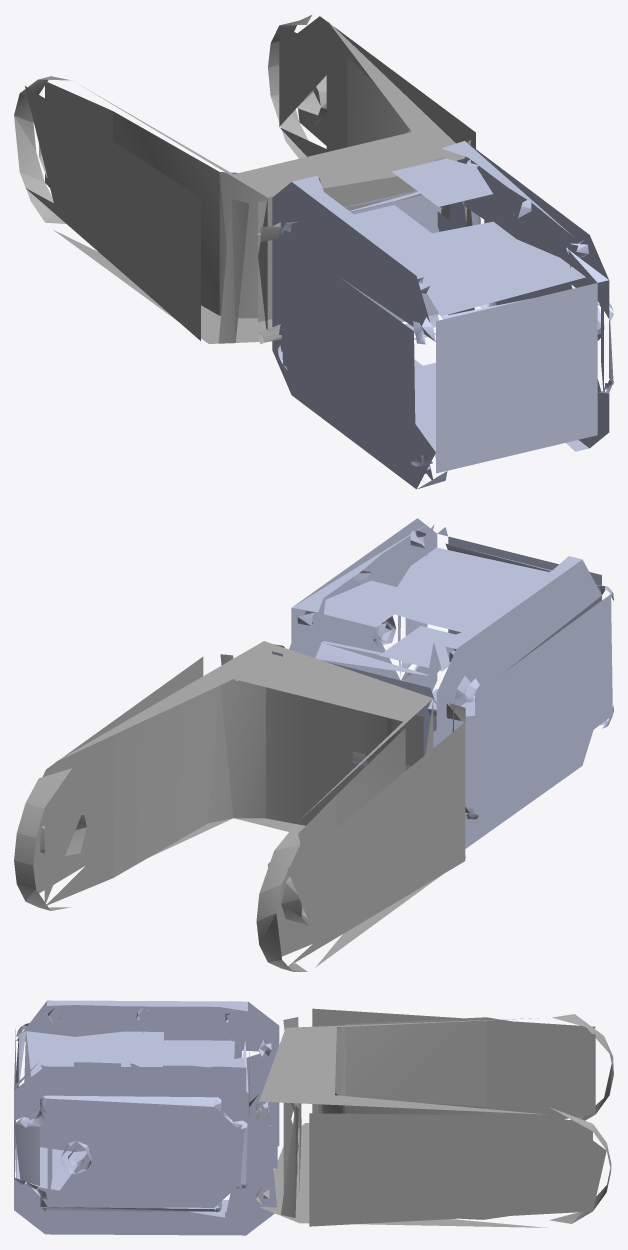
Rendered from part_16_opt.obj.
3 renders of one model, top to bottom at view 1: azimuth 30°, elevation 25°; view 2: azimuth 150°, elevation 25°; view 3: azimuth 270°, elevation 25°, orthographic. The views are drawn at different scales.
Visible parts, largest first — view 1: NONE_DC_Shell, Cut_Extrude11_DC_Shell; view 2: Cut_Extrude11_DC_Shell, NONE_DC_Shell; view 3: Cut_Extrude11_DC_Shell, NONE_DC_Shell.
Part boxes in pixels (bbox=[...]): NONE_DC_Shell: bbox=[272, 141, 613, 489]; Cut_Extrude11_DC_Shell: bbox=[14, 15, 475, 344]; Cut_Extrude11_DC_Shell: bbox=[14, 641, 469, 971]; NONE_DC_Shell: bbox=[272, 518, 613, 848]; Cut_Extrude11_DC_Shell: bbox=[249, 1008, 613, 1227]; NONE_DC_Shell: bbox=[14, 1000, 279, 1235].
Size of the model in its own units: 48.32 by 35.6 by 115.
